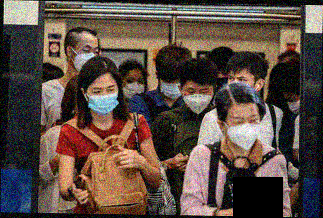with_mask: (226, 110, 263, 154), (86, 82, 119, 117), (181, 85, 213, 118), (72, 42, 101, 72), (120, 74, 147, 101), (159, 79, 182, 100), (285, 94, 300, 116)
